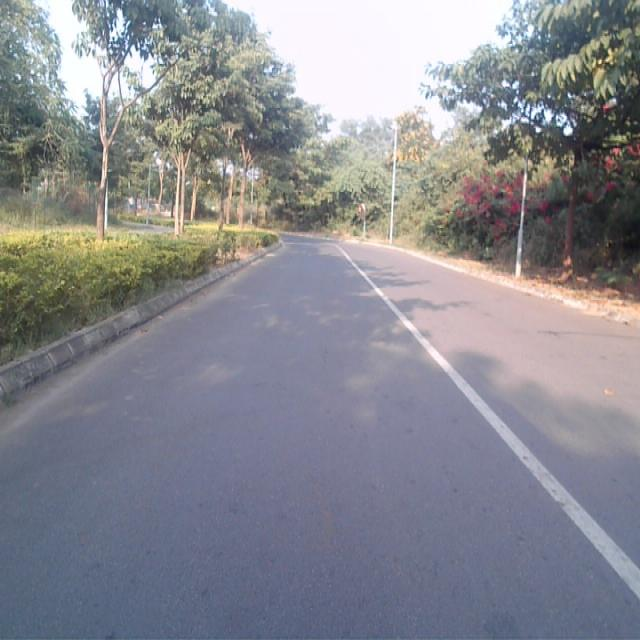lane: (0, 242, 640, 640)
